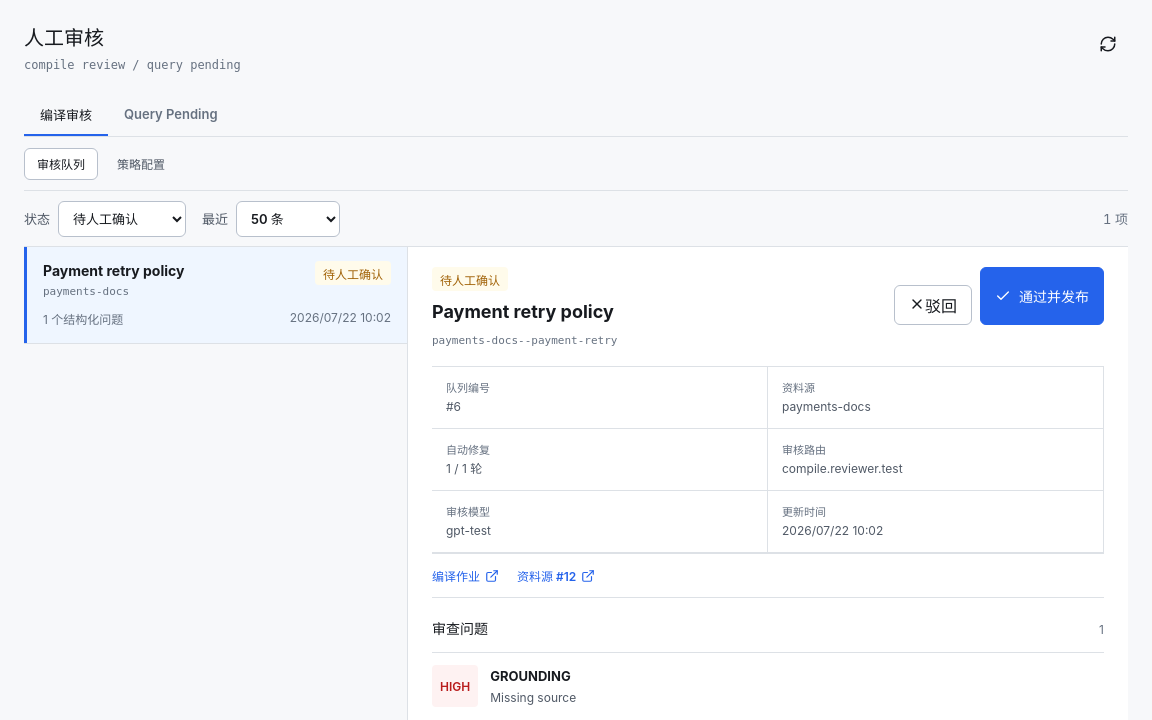
Test: reviews page › reloads the latest item after a concurrent status change
The image size is (1152, 720).
Click the button "驳回": coordinates (933, 305) [894, 285, 972, 325]
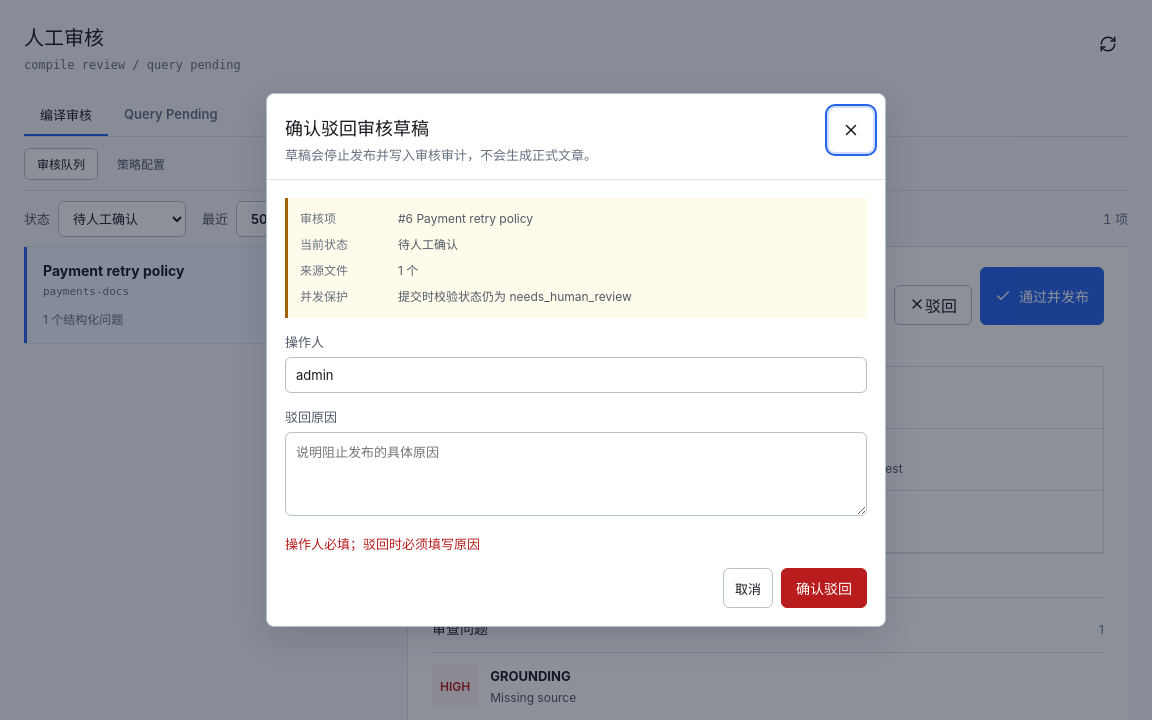
In the text box labelled "驳回原因": coordinates (576, 474) [285, 432, 867, 516], type "source mismatch"
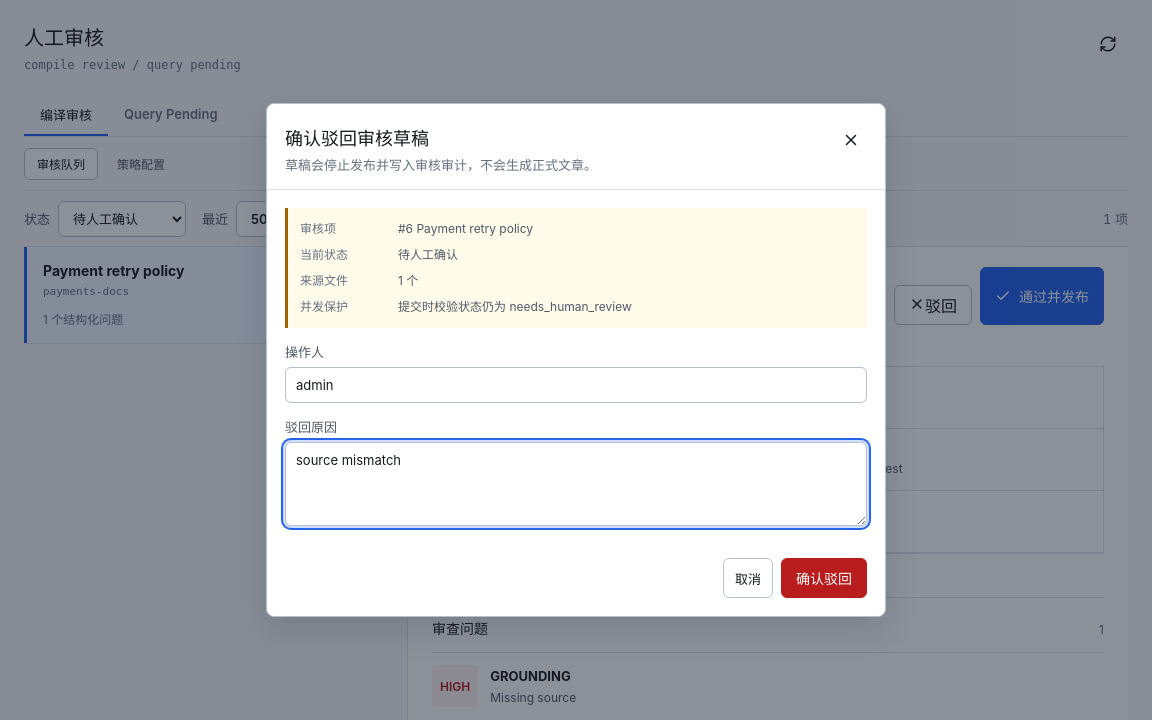
Click the button "确认驳回": coordinates (824, 578) [781, 558, 867, 598]
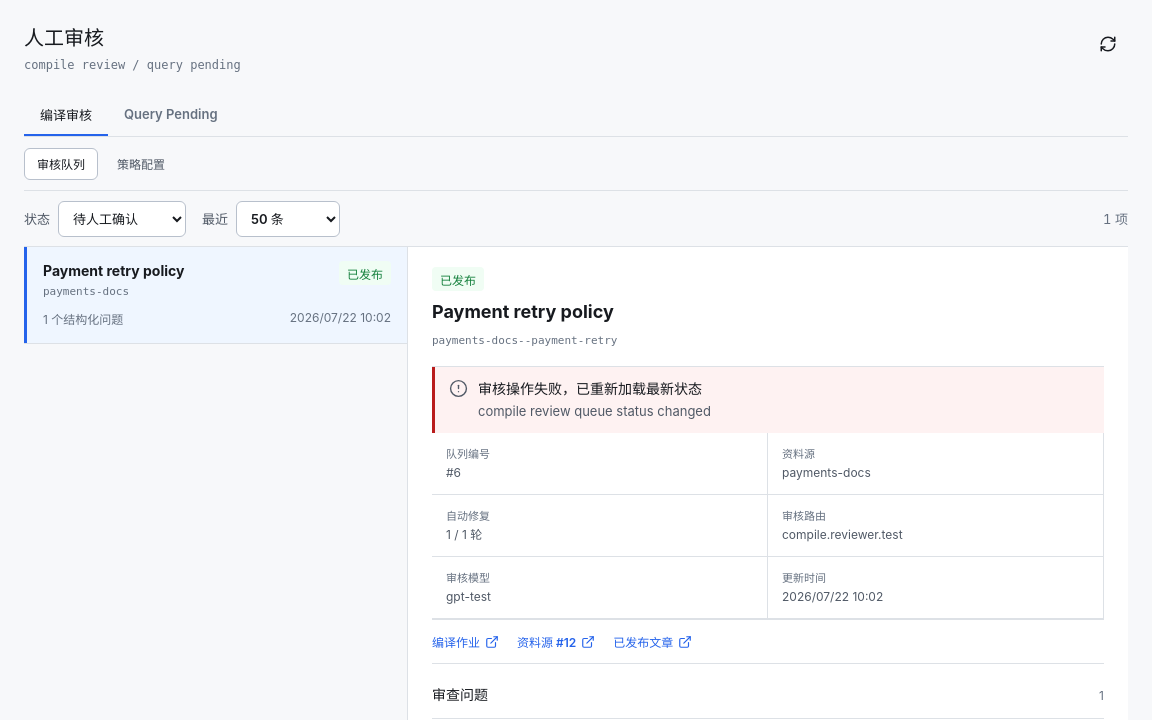
expect the text "审核操作失败，已重新加载最新状态" is shown: met, box [478, 380, 702, 397]
expect the dialog is gone: met
